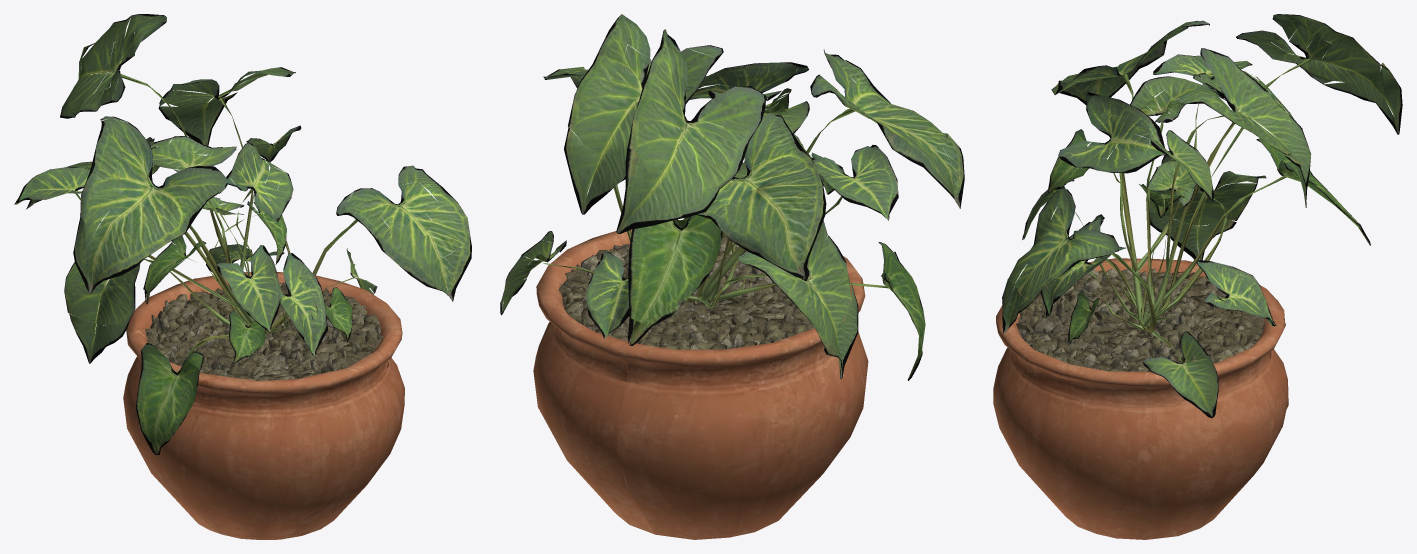
The model's file is plant_leafy.glb.
3 renders of one model, left to right at view 1: azimuth 30°, elevation 25°; view 2: azimuth 150°, elevation 25°; view 3: azimuth 270°, elevation 25°, orthographic. The views are drawn at different scales.
Parts seen in each view (by area): view 1: potted_plant_02_leaves, potted_plant_02_dirt; view 2: potted_plant_02_leaves, potted_plant_02_dirt; view 3: potted_plant_02_dirt, potted_plant_02_leaves.
Boxes of the visible parts, box(x1,y1,x2,y2) form: potted_plant_02_leaves: box(14, 14, 471, 454); potted_plant_02_dirt: box(123, 272, 404, 539); potted_plant_02_leaves: box(500, 14, 964, 380); potted_plant_02_dirt: box(533, 229, 868, 539); potted_plant_02_dirt: box(993, 258, 1288, 539); potted_plant_02_leaves: box(1002, 14, 1402, 418).
Bounding box in the file's own units: 0.7008 × 0.8419 × 0.6564.
Materials: 2 (2 with a texture image).
